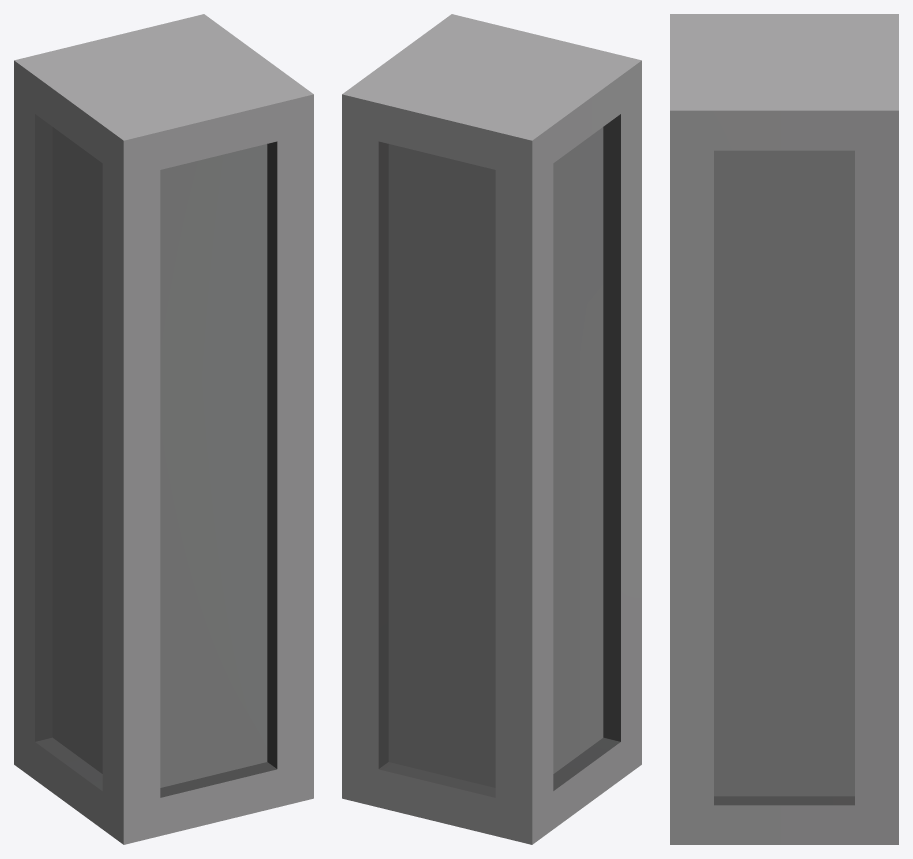
Rendered from Museum_Balustrade_End.fbx.
The picture shows the model from 3 angles, left to right: view 1: azimuth 30°, elevation 25°; view 2: azimuth 150°, elevation 25°; view 3: azimuth 270°, elevation 25°; orthographic projection. The views are drawn at different scales.
Parts seen in each view (by area): view 1: Cylinder; view 2: Cylinder; view 3: Cylinder.
Boxes of the visible parts, x1,y1,x2,y2 form: Cylinder: (14, 14, 313, 844); Cylinder: (342, 14, 641, 844); Cylinder: (670, 14, 898, 844).
Bounding box in the file's own units: 0.2529 × 0.8951 × 0.2529.
